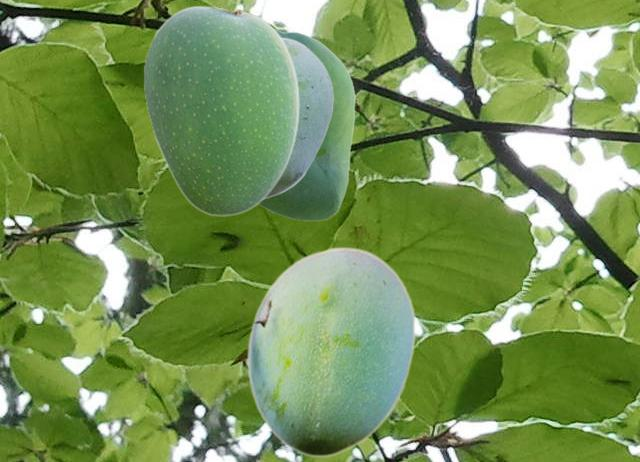green_mango: (246, 246, 415, 456), (143, 5, 299, 215), (259, 29, 354, 220), (265, 35, 333, 200)
